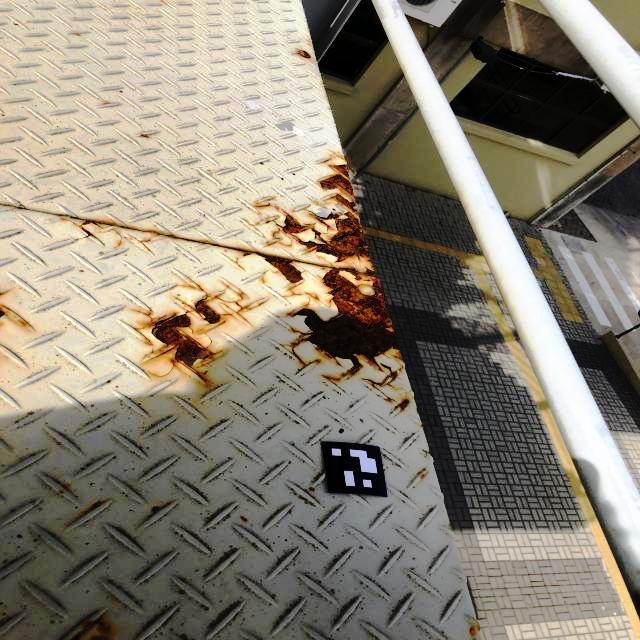Corrosion: (254, 156, 405, 386), (145, 312, 211, 366), (252, 253, 303, 284), (60, 217, 124, 239), (68, 614, 112, 640), (213, 291, 249, 314), (195, 300, 219, 324), (395, 398, 412, 411), (0, 305, 9, 321), (297, 50, 311, 58), (91, 502, 101, 509), (241, 252, 253, 257), (469, 627, 475, 635), (387, 396, 392, 402)
